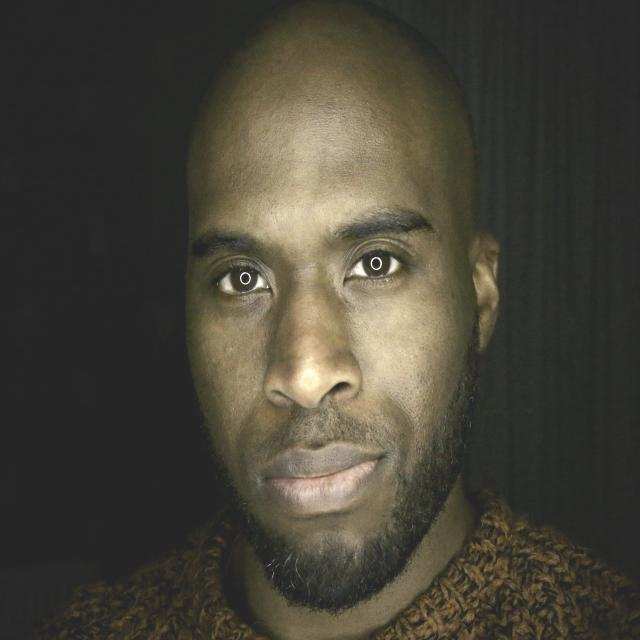piel: (180, 0, 505, 640)
